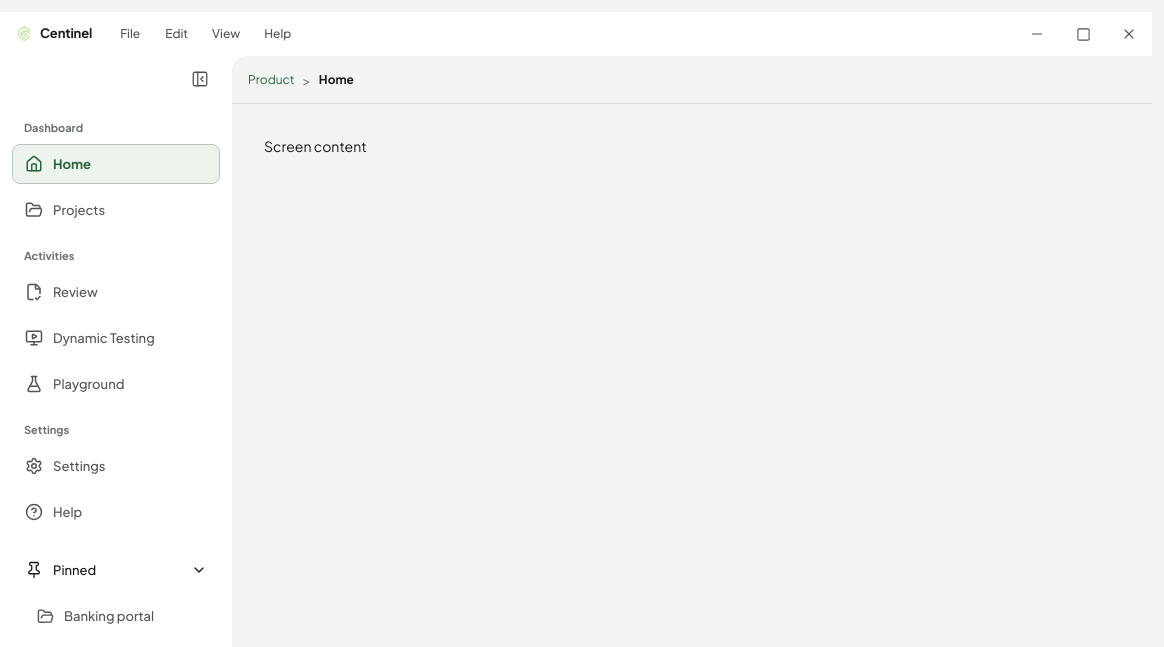
Test case: AppShell module launch › persists an accessible Pinned disclosure and opens pinned project overviews
Check: the button with aria-label "Open Banking portal overview" is shown, box [24, 596, 220, 636]
Click the button with aria-label "Collapse Pinned". click: click(116, 570)
box: [12, 550, 220, 590]
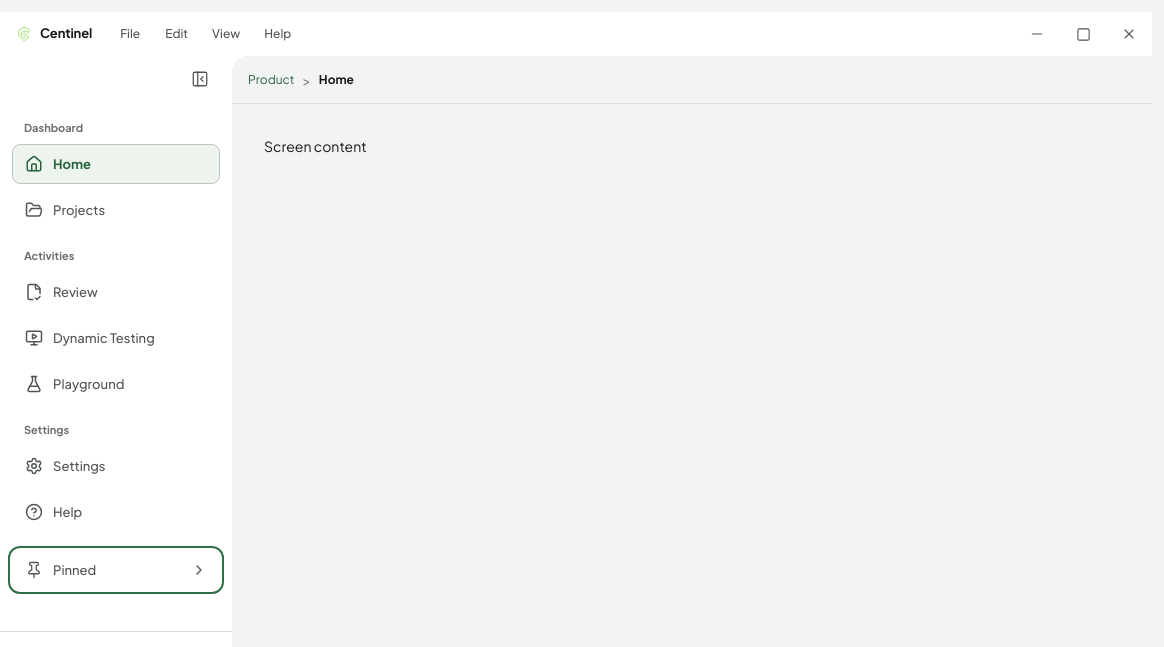
Check: the button named "Collapse Pinned" is collapsed, box [12, 550, 220, 590]
